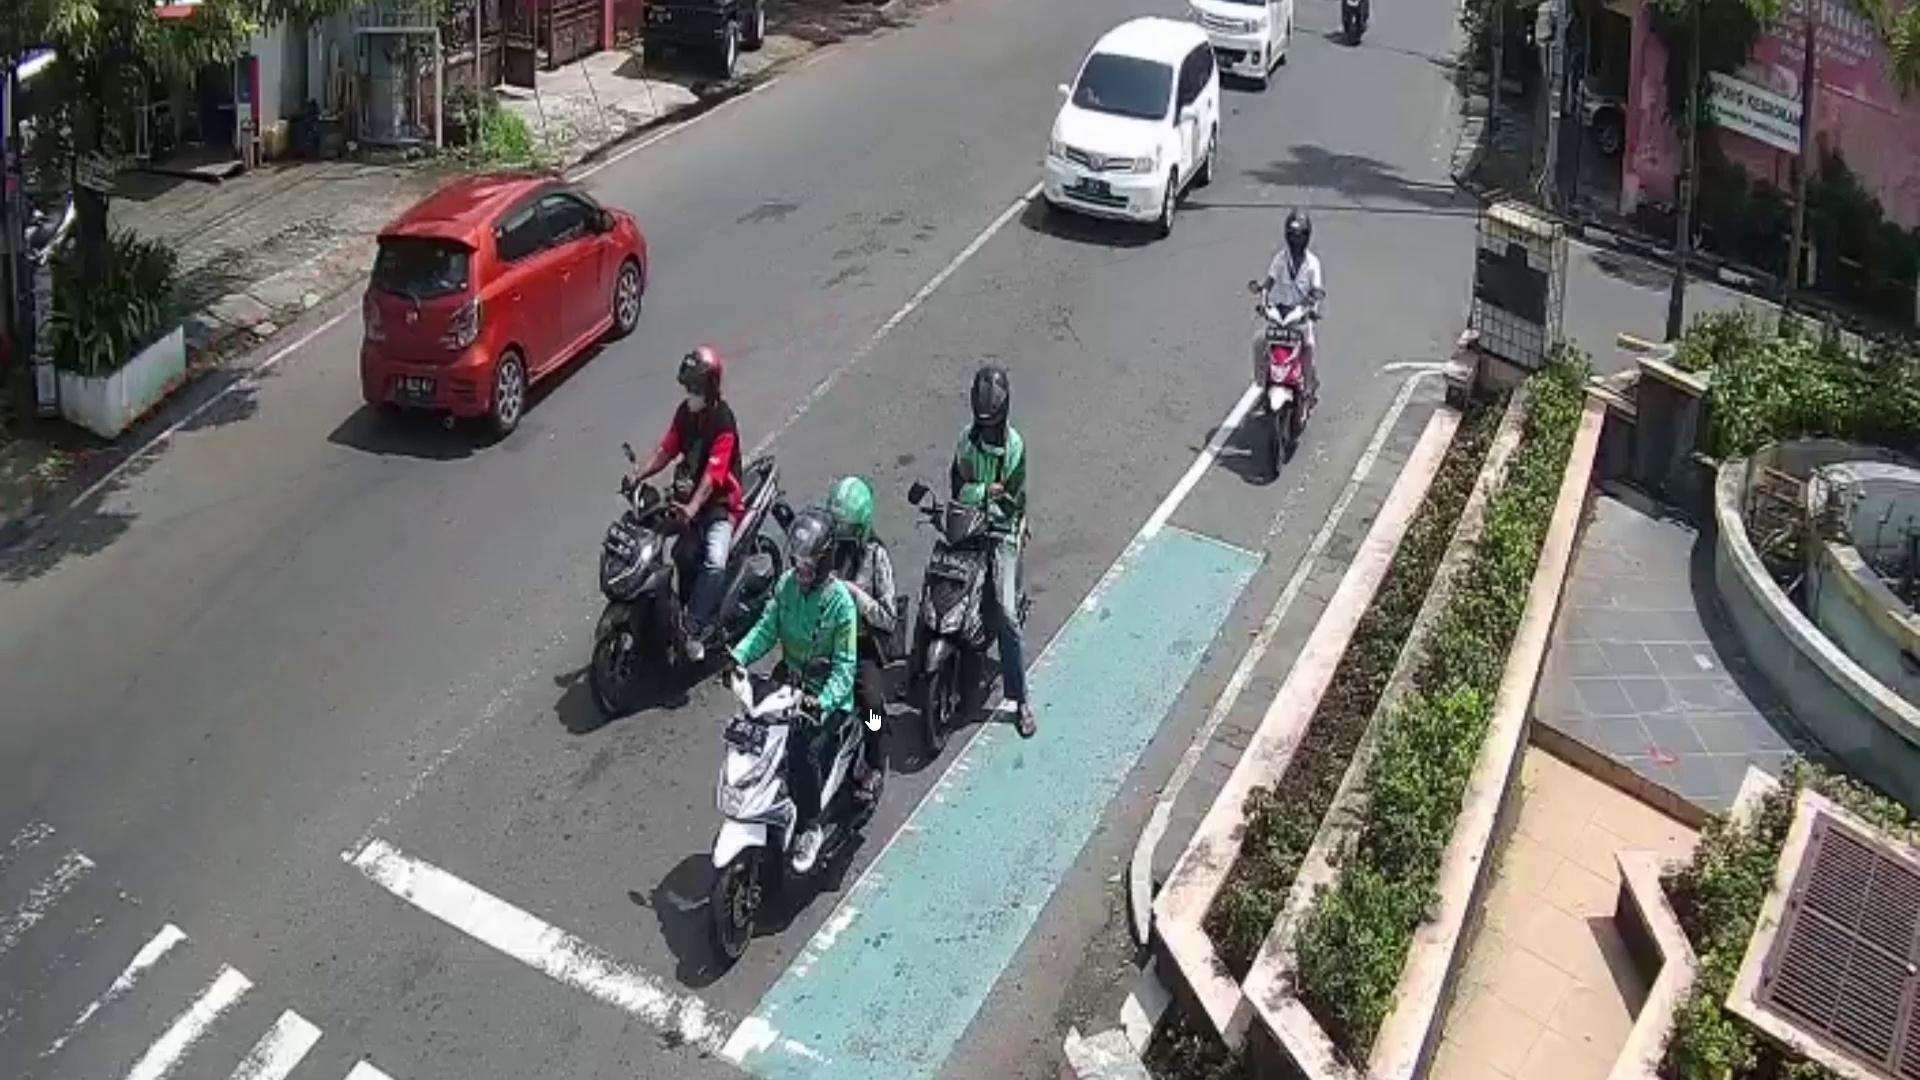car: (359, 171, 647, 425), (1039, 15, 1220, 236), (1185, 0, 1298, 95)
motorbike: (589, 455, 783, 721), (711, 669, 870, 959), (914, 501, 998, 753), (1250, 302, 1308, 475)
